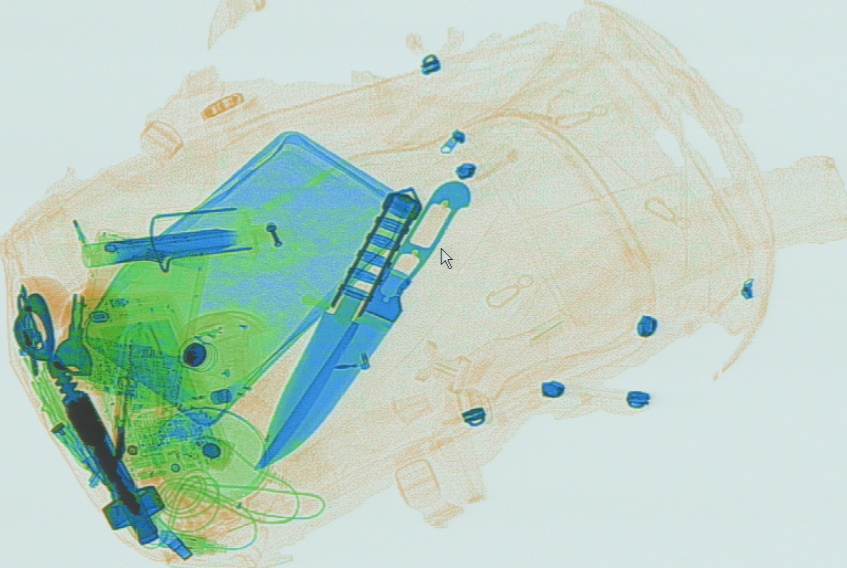knife: (255, 177, 470, 473), (261, 183, 424, 468)
